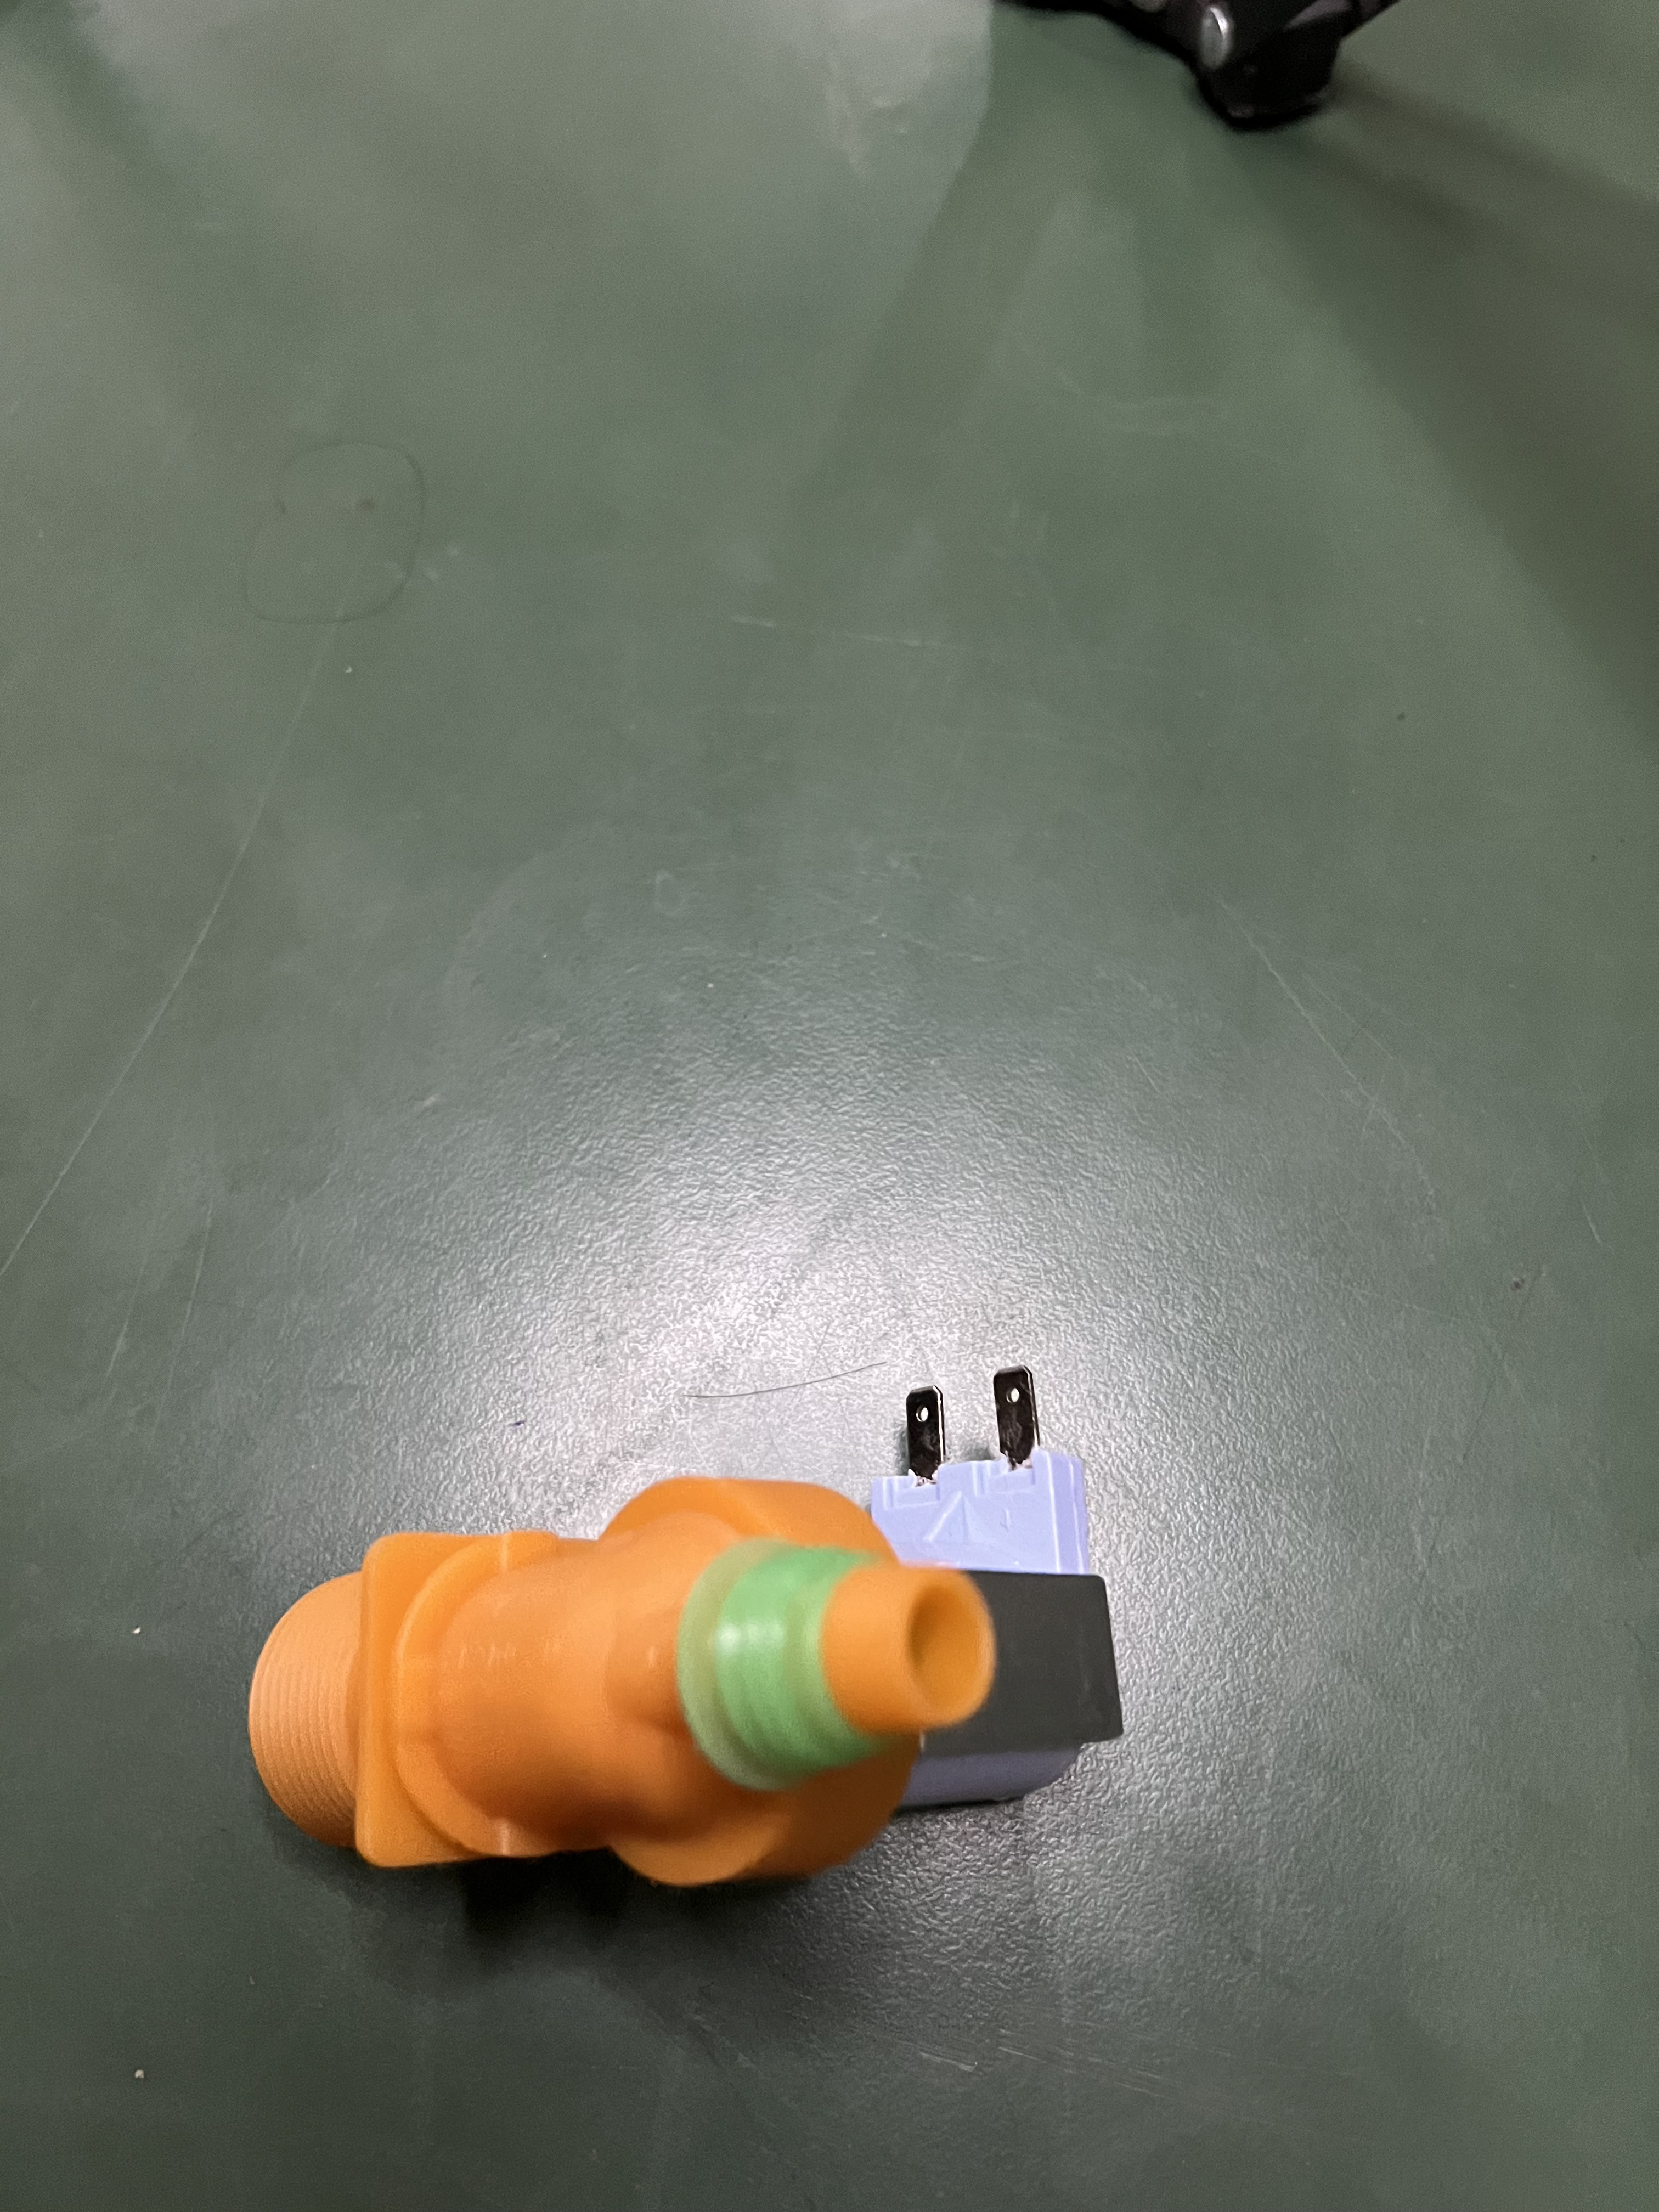ss_inlet_valves: (209, 1305, 1131, 1923)
